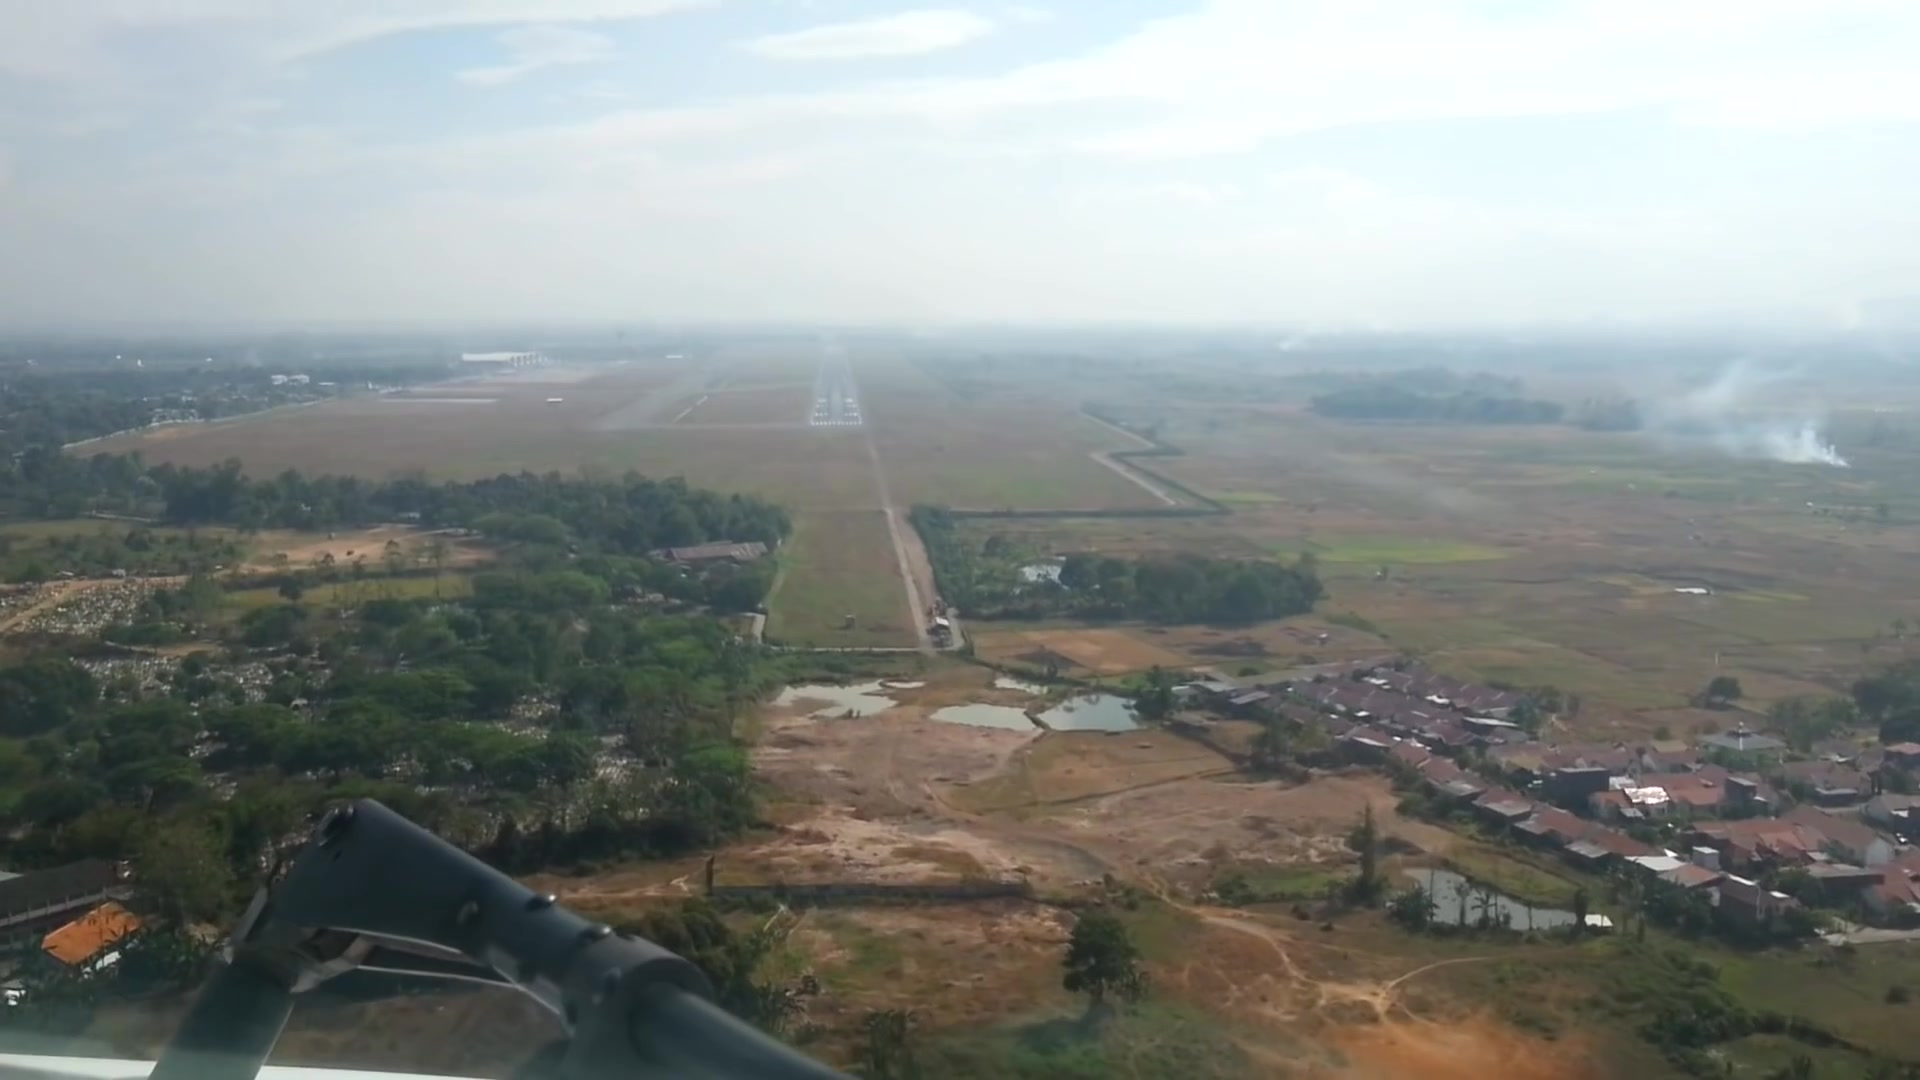entrance: (808, 415, 860, 426)
runway: (804, 349, 866, 429)
